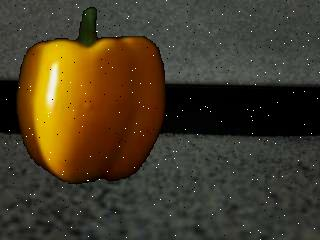Capsicum: (13, 4, 173, 186)
